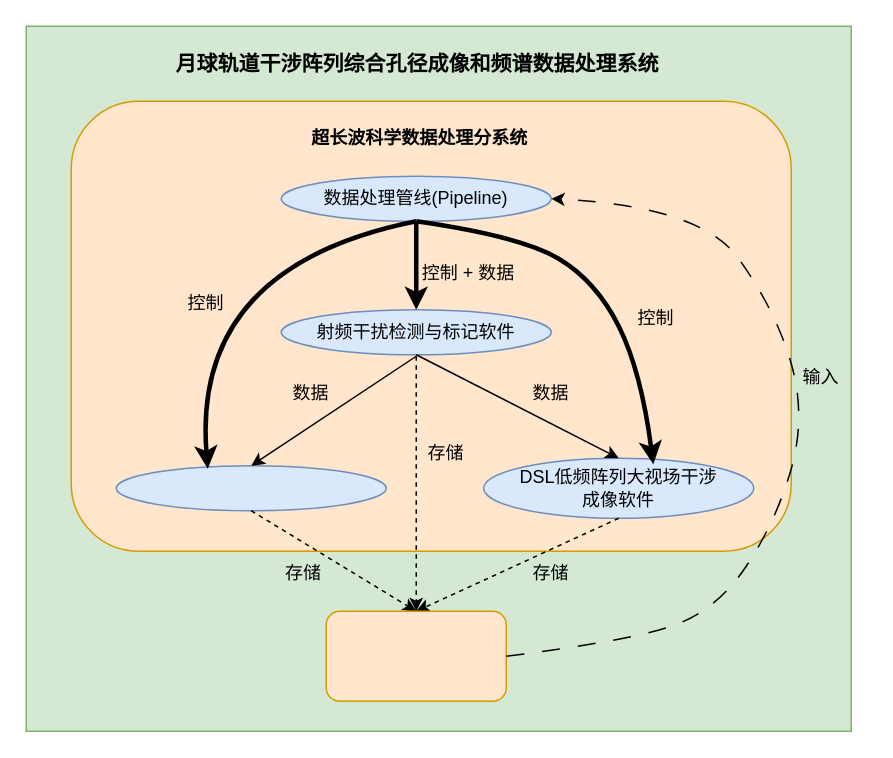
Image size: 893x758. Some labels were removed from this diagram. The shapes that lost their labels are listed below. From the top down, each one's box as (x1, y1, x2, y2) in pixels, then its label:
(115, 464, 386, 511): DSL频谱数据分析软件
(325, 610, 506, 701): 数据管理与用户服务分系统
